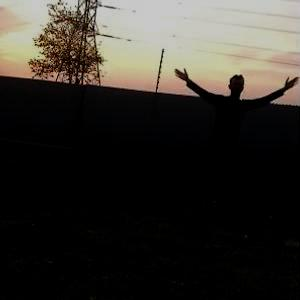takeoff: (172, 75, 283, 199)
